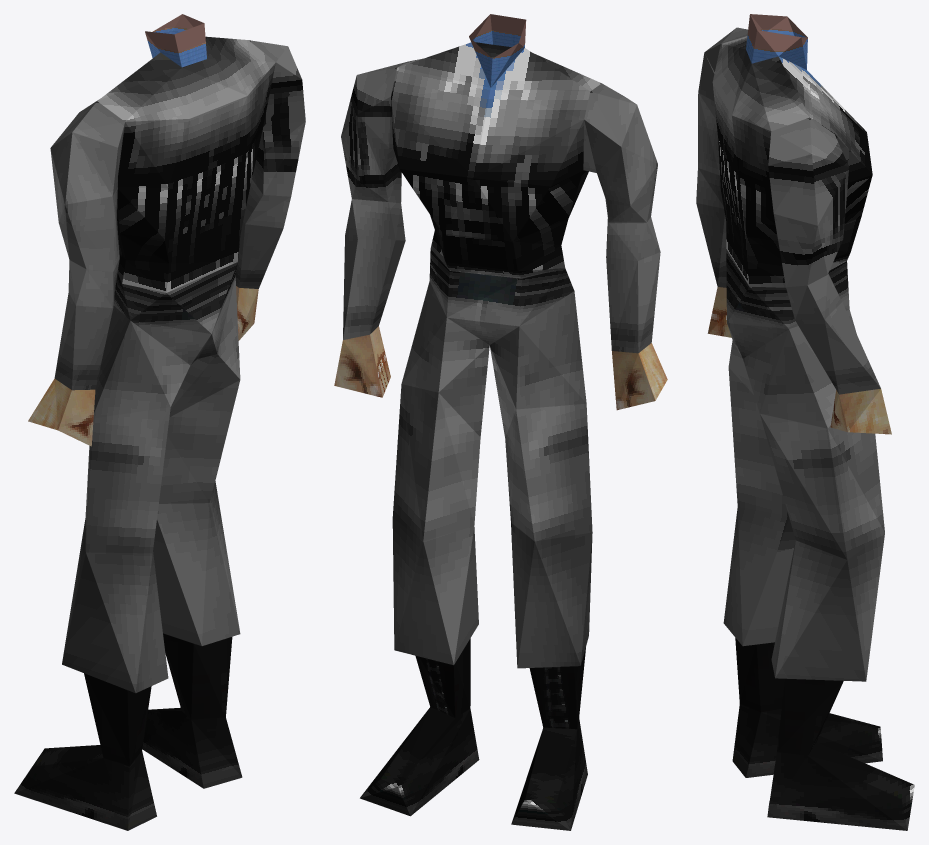
Rendered from primary_018.glb.
The picture shows the model from 3 angles, left to right: view 1: azimuth 30°, elevation 25°; view 2: azimuth 150°, elevation 25°; view 3: azimuth 270°, elevation 25°; orthographic projection. The views are drawn at different scales.
Parts seen in each view (by area): view 1: Object; view 2: Object; view 3: Object.
Part boxes in pixels (x1=…): Object: x1=14, y1=14, x2=305, y2=830; Object: x1=334, y1=14, x2=667, y2=830; Object: x1=696, y1=14, x2=914, y2=830.
Bounding box in the file's own units: 0.7343 × 1.83 × 0.4667.
69 materials, 69 textured.
